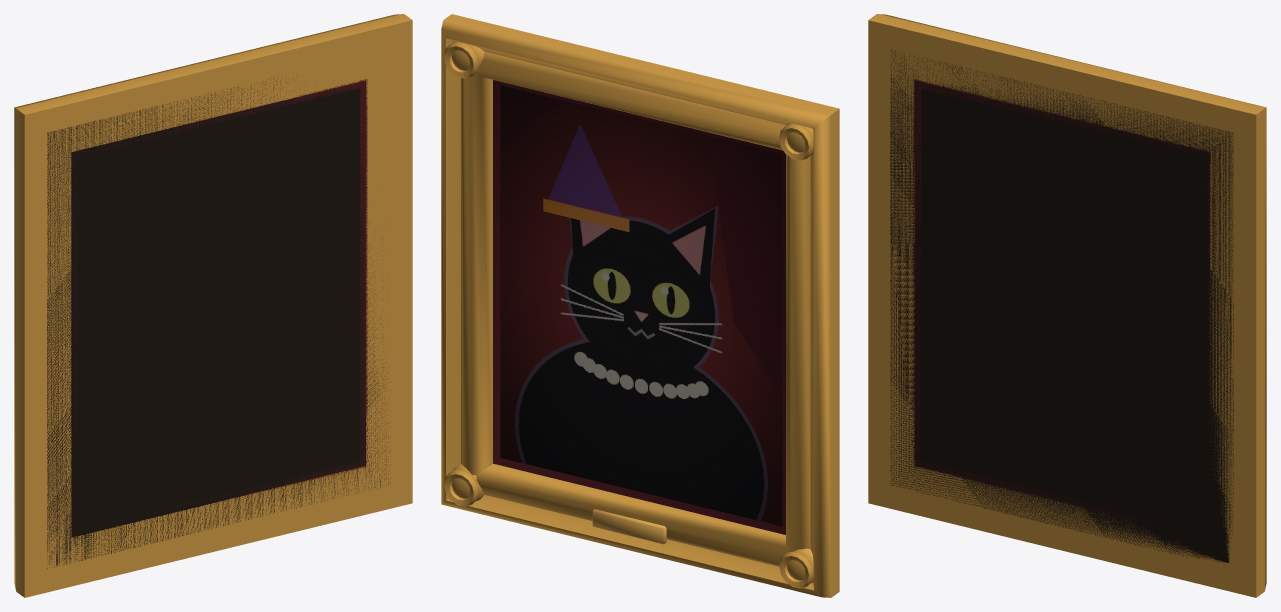
The model's file is manor_portrait_cat.glb.
3 renders of one model, left to right at view 1: azimuth 30°, elevation 25°; view 2: azimuth 150°, elevation 25°; view 3: azimuth 330°, elevation 25°, orthographic.
Parts seen in each view (by area): view 1: Portrait_Cat; view 2: Portrait_Cat; view 3: Portrait_Cat.
Boxes of the visible parts, left/top/right/bottom form: Portrait_Cat: left=14, top=14, right=412, bottom=597; Portrait_Cat: left=441, top=14, right=839, bottom=597; Portrait_Cat: left=868, top=14, right=1266, bottom=597.
Bounding box in the file's own units: 0.632 × 0.752 × 0.0537.
Materials: 5 (1 with a texture image).
